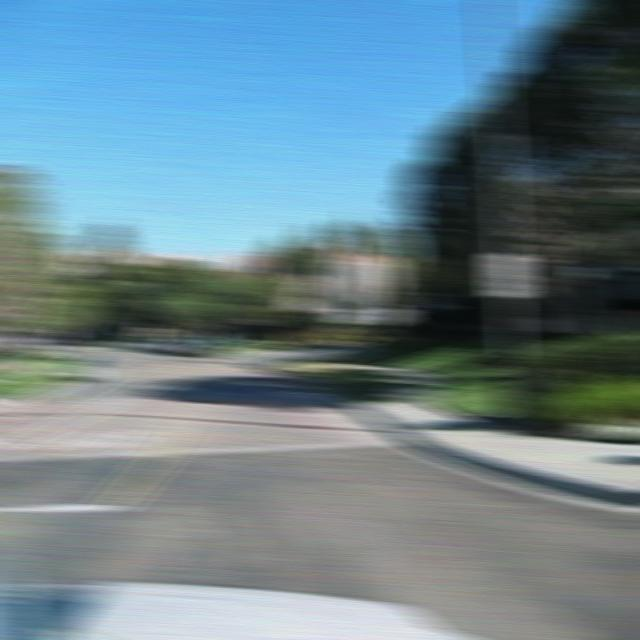speedLimit25: (487, 252, 530, 297)
